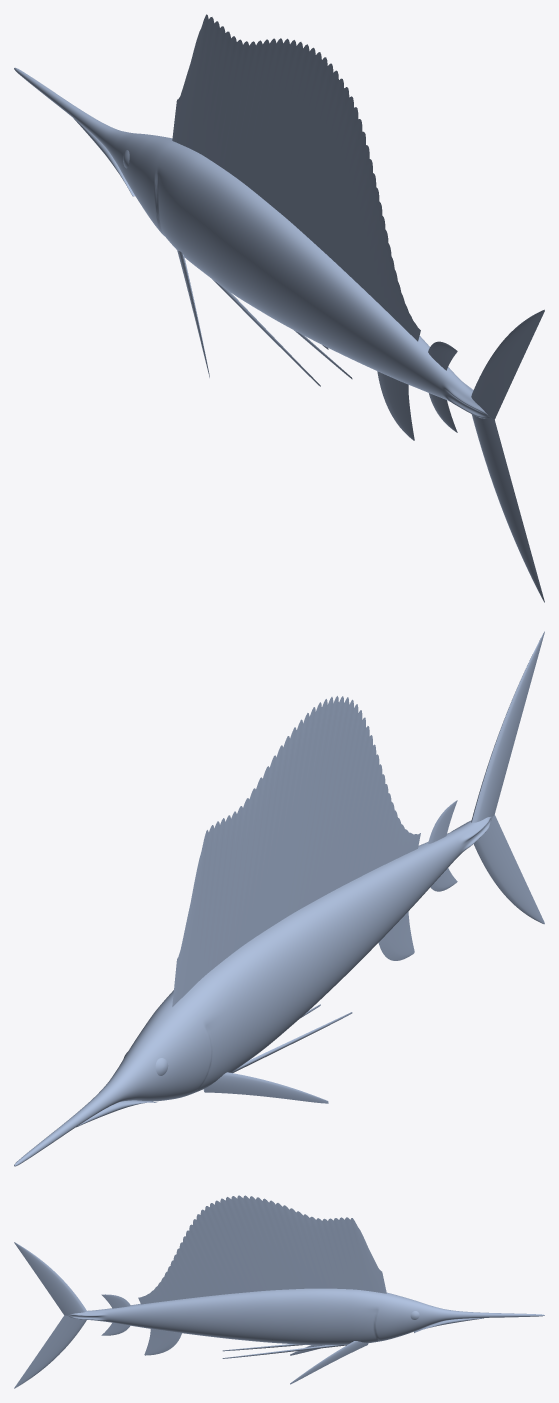
File: sailfish.glb
3 views of the same model, one above another, from view 1: azimuth 30°, elevation 25°; view 2: azimuth 150°, elevation 25°; view 3: azimuth 270°, elevation 25° (orthographic). The views are drawn at different scales.
Parts seen in each view (by area): view 1: sailfish; view 2: sailfish; view 3: sailfish.
Part boxes in pixels (bbox=[...]): sailfish: bbox=[14, 14, 544, 602]; sailfish: bbox=[14, 631, 544, 1166]; sailfish: bbox=[14, 1195, 544, 1388].
Bounding box in the file's own units: 0.3347 × 1.04 × 2.6.
